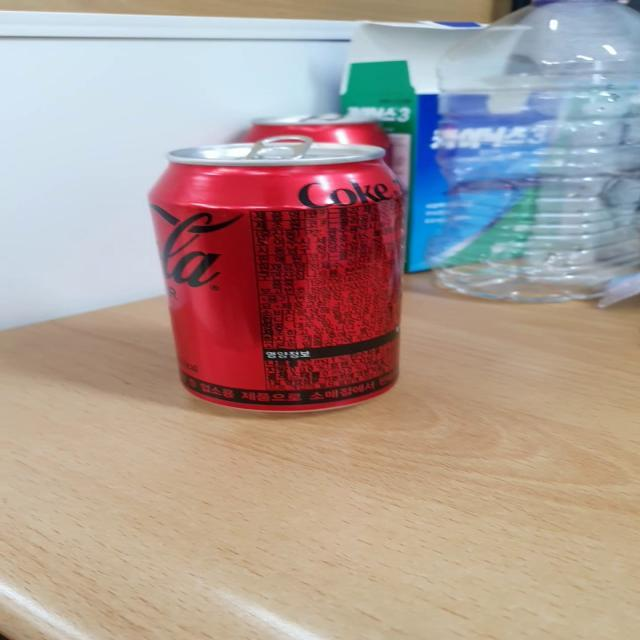coca-cola: (122, 127, 446, 431)
